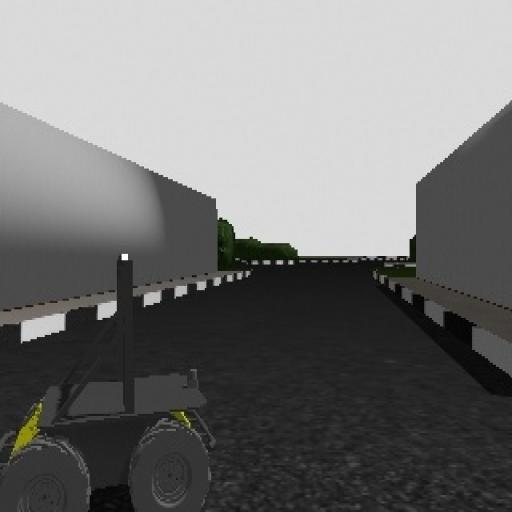huskya200: (1, 239, 247, 512)
